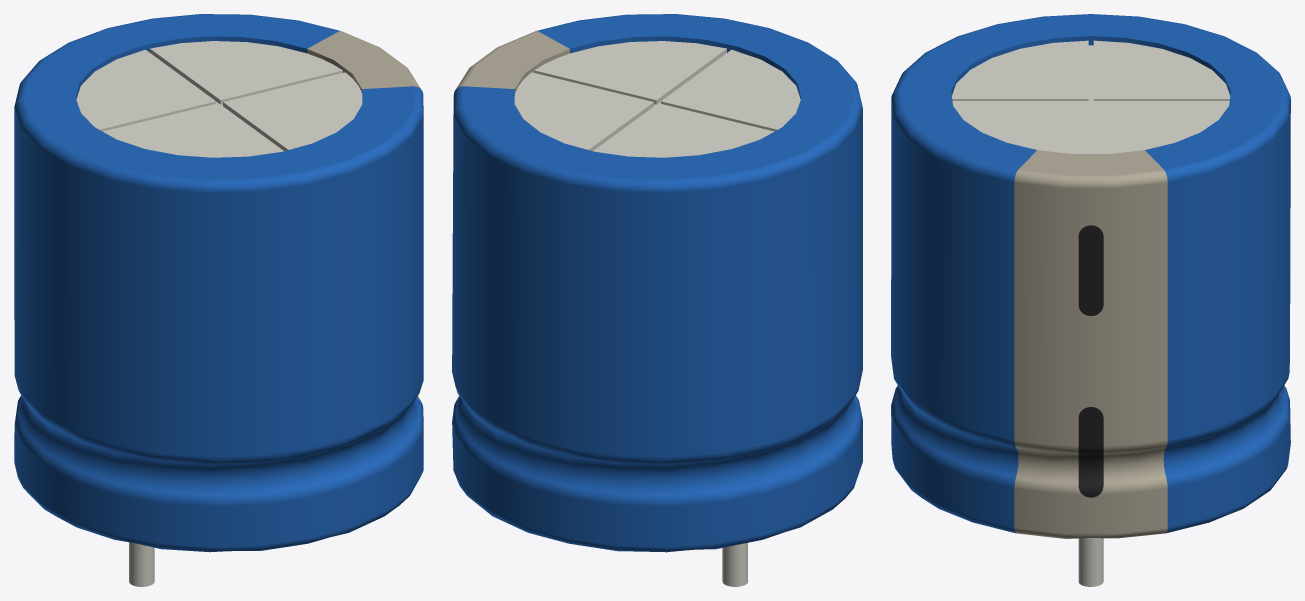
The model's file is cap_electrolitico.glb.
The picture shows the model from 3 angles, left to right: view 1: azimuth 30°, elevation 25°; view 2: azimuth 150°, elevation 25°; view 3: azimuth 270°, elevation 25°; orthographic projection. The views are drawn at different scales.
Visible parts, largest first — view 1: U1; view 2: U1; view 3: U1.
Part boxes in pixels (x1,y1,x2,y2): U1: (14, 14, 423, 586); U1: (452, 14, 862, 586); U1: (891, 14, 1290, 586).
Size of the model in its own units: 0.008 by 0.01 by 0.00798.
